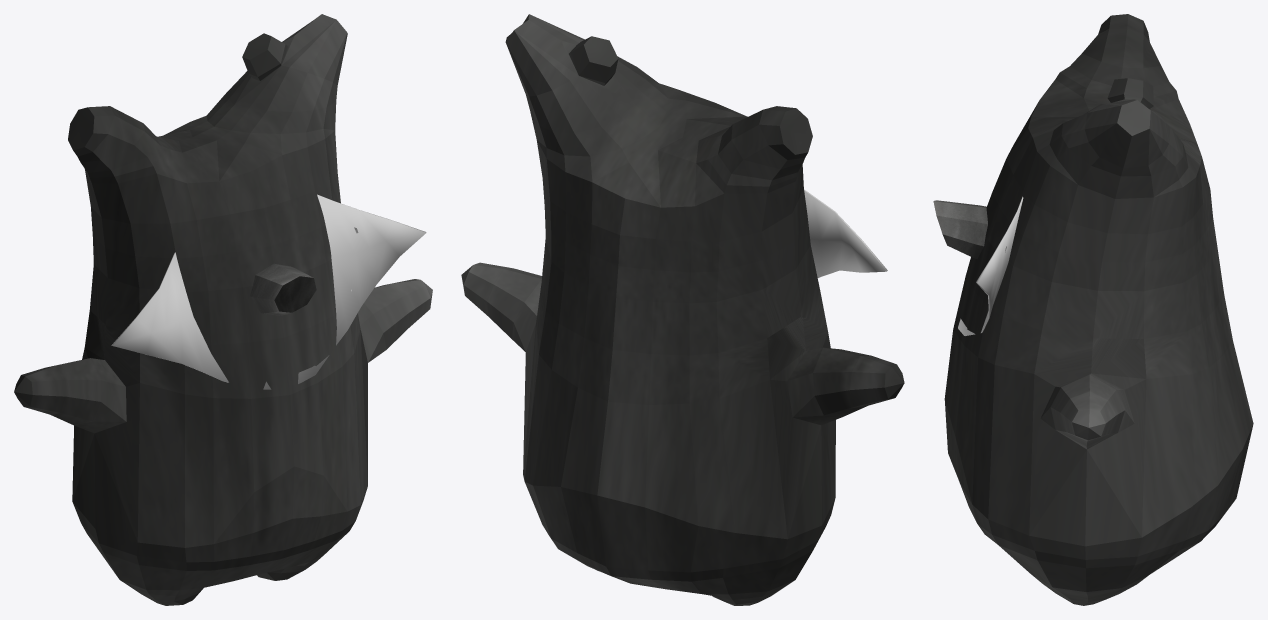
The model's file is frame_0033.obj.
The picture shows the model from 3 angles, left to right: view 1: azimuth 30°, elevation 25°; view 2: azimuth 150°, elevation 25°; view 3: azimuth 270°, elevation 25°; orthographic projection. The views are drawn at different scales.
Visible parts, largest first — view 1: korok, leaf, nose; view 2: korok, leaf; view 3: korok, nose, leaf.
Boxes of the visible parts, x1,y1,x2,y2 form: korok: (14, 14, 432, 605); leaf: (111, 194, 426, 389); nose: (250, 263, 316, 315); korok: (461, 14, 904, 605); leaf: (804, 189, 887, 277); korok: (944, 14, 1253, 605); nose: (933, 200, 987, 258); leaf: (958, 196, 1023, 335).
Size of the model in its own units: 1.86 by 2.24 by 1.21.
